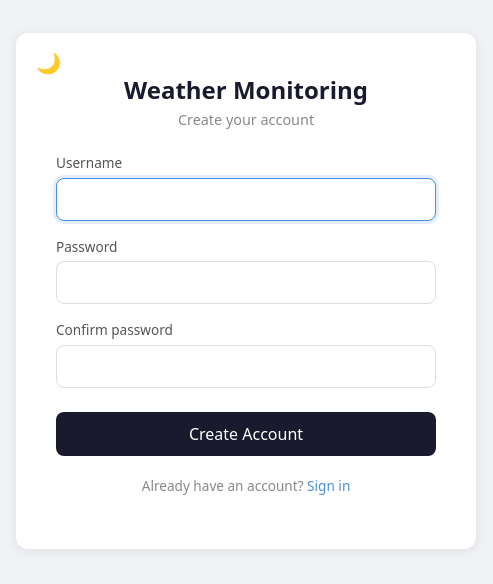
it: RegisterPage › shows validation error when password is too short
The width and height of the screenshot is (493, 584).
Type "ruben" into the field labelled "Username" at (246, 199), box x1=56 y1=178 x2=436 y2=221
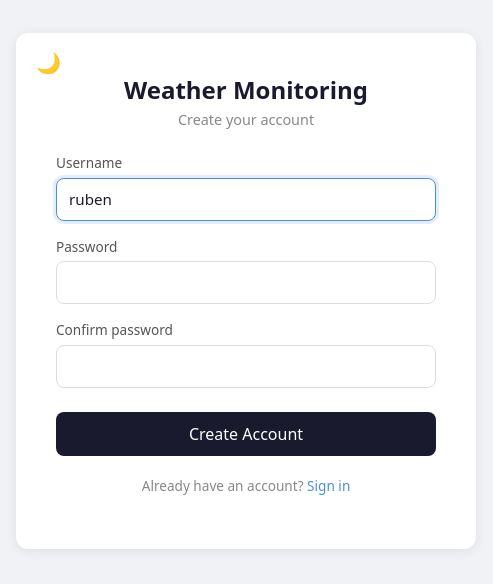
Type "12" into the password field labelled "Password" at (246, 283), box x1=56 y1=261 x2=436 y2=304
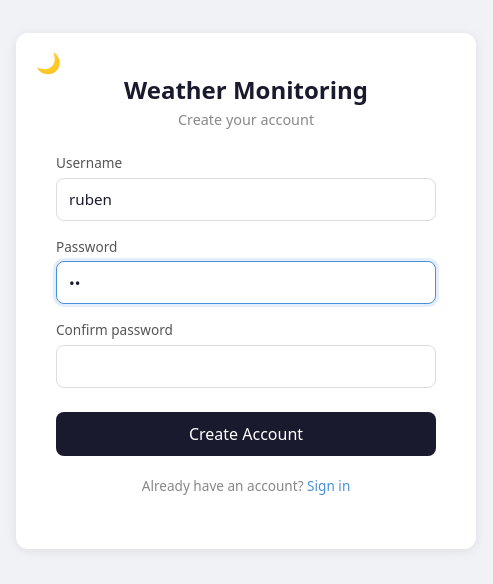
Type "12" into the password field labelled "Confirm password" at (246, 366), box x1=56 y1=345 x2=436 y2=388
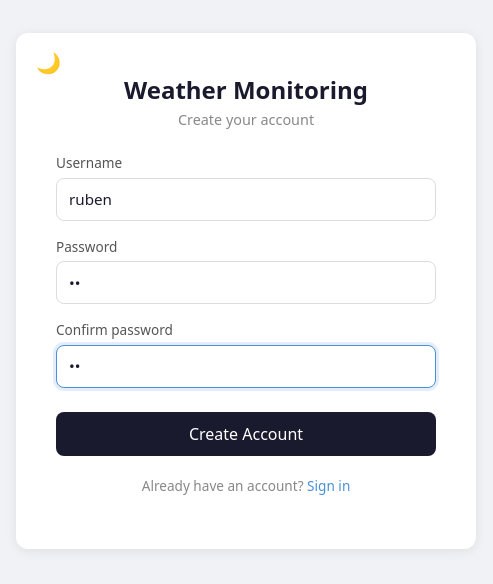
Click the button "Create Account" at (246, 434), box x1=56 y1=412 x2=436 y2=456
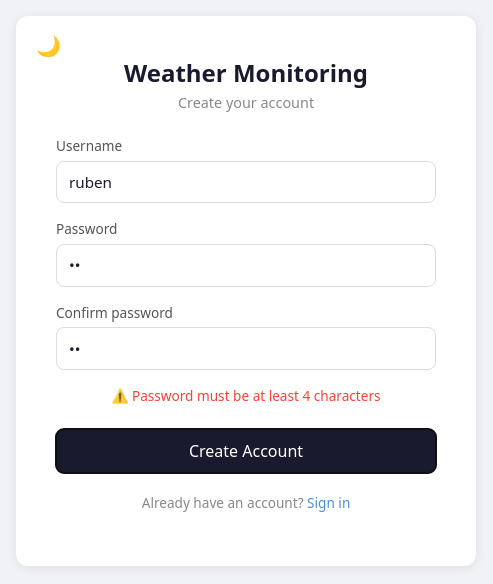
Now the text "⚠️ Password must be at least 4 characters" is shown, box x1=112 y1=386 x2=380 y2=405
